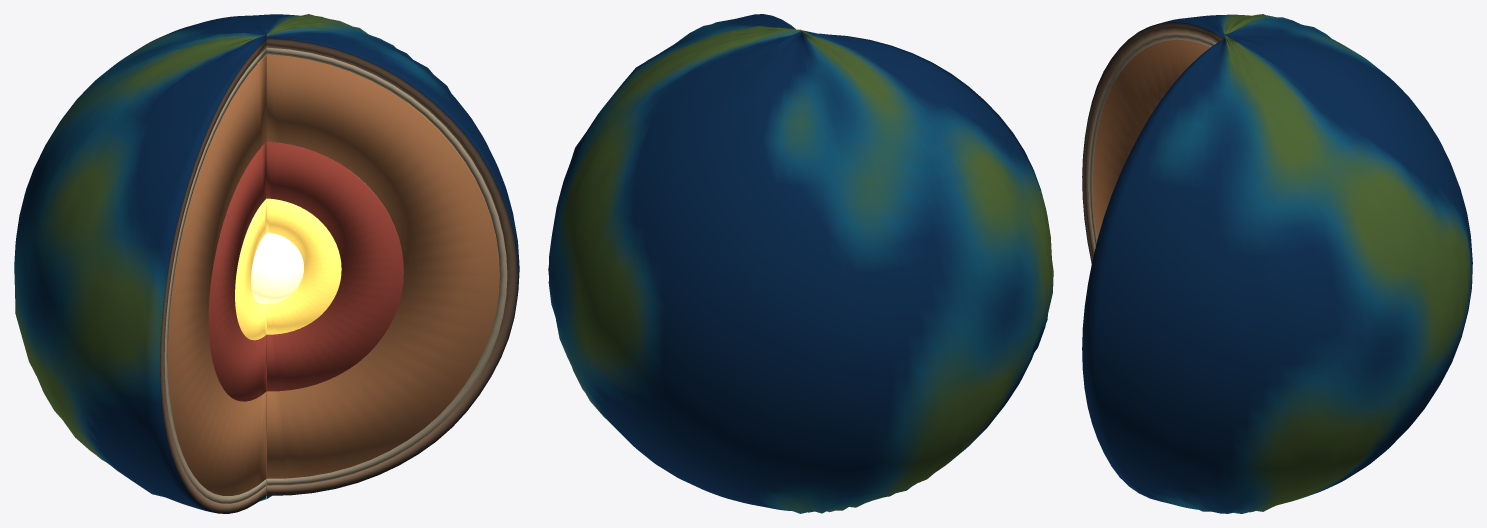
Rendered from earth.glb.
3 views of the same model, side by side, from view 1: azimuth 30°, elevation 25°; view 2: azimuth 150°, elevation 25°; view 3: azimuth 270°, elevation 25° (orthographic).
Visible parts, largest first — view 1: crust, upper_mantle, lower_mantle, outer_core, lithosphere, inner_core; view 2: crust; view 3: crust, upper_mantle, lithosphere.
Boxes of the visible parts, x1,y1,x2,y2 form: crust: (14,14,519,513); upper_mantle: (168,54,499,495); lower_mantle: (208,142,403,401); outer_core: (235,198,341,340); lithosphere: (164,47,507,503); inner_core: (251,232,303,303); crust: (548,14,1053,513); crust: (1082,14,1472,513); upper_mantle: (1092,39,1210,239); lithosphere: (1088,32,1215,249).
Size of the model in its own units: 2.03 by 2.05 by 1.59.
